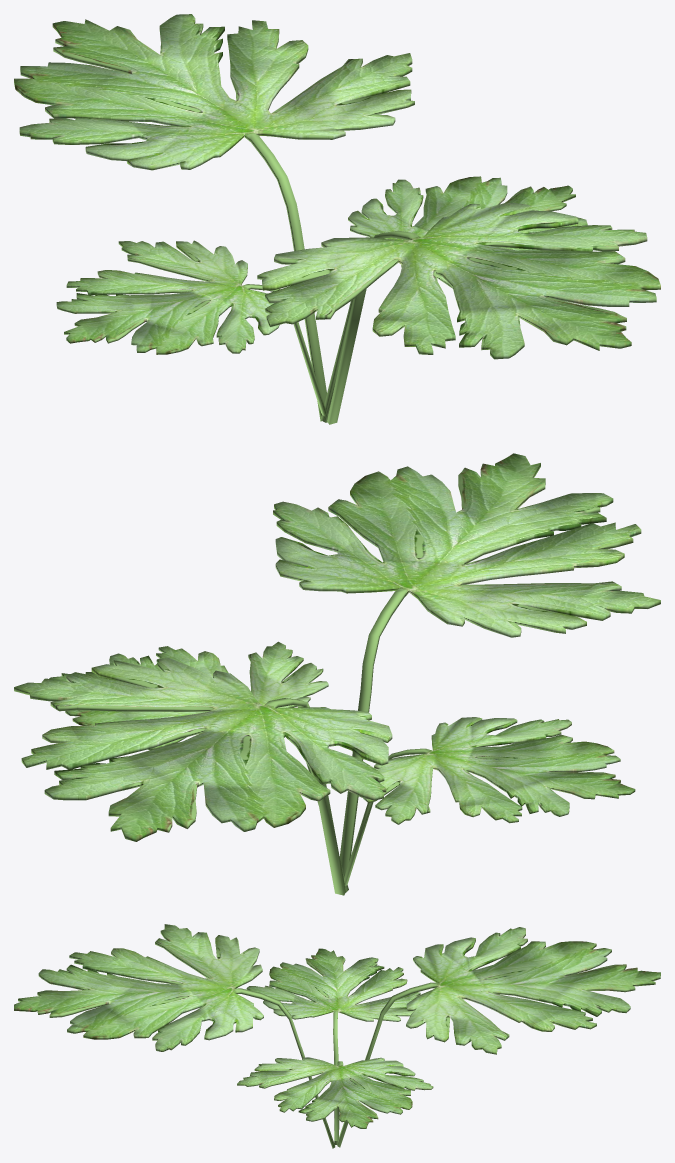
File: yimucao.FBX
3 renders of one model, top to bottom at view 1: azimuth 30°, elevation 25°; view 2: azimuth 150°, elevation 25°; view 3: azimuth 270°, elevation 25°, orthographic. The views are drawn at different scales.
Visible parts, largest first — view 1: Line001, Line002, Line004, Line003; view 2: Line002, Line001, Line004, Line003; view 3: Line001, Line002, Line003, Line004.
Boxes of the visible parts, x1=… form: Line001: x1=14, y1=14, x2=414, y2=421; Line002: x1=257, y1=202, x2=660, y2=424; Line004: x1=56, y1=240, x2=327, y2=422; Line003: x1=320, y1=176, x2=587, y2=422; Line002: x1=273, y1=453, x2=660, y2=874; Line001: x1=14, y1=658, x2=392, y2=895; Line004: x1=344, y1=717, x2=635, y2=885; Line003: x1=49, y1=641, x2=348, y2=892; Line001: x1=337, y1=927, x2=660, y2=1147; Line002: x1=14, y1=924, x2=335, y2=1148; Line003: x1=237, y1=1057, x2=433, y2=1140; Line004: x1=246, y1=948, x2=420, y2=1145.
Bounding box in the file's own units: 71.74 × 30.26 × 110.
1 material, 1 textured.
